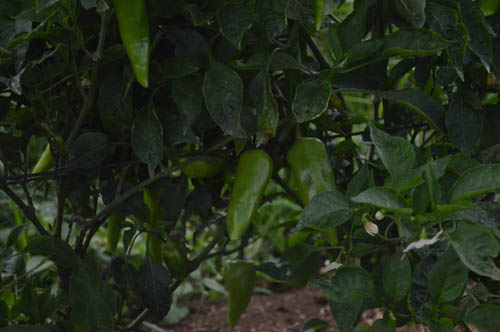ChiliPepper: (289, 139, 339, 240), (226, 151, 274, 239), (116, 4, 149, 83), (220, 259, 255, 323)
